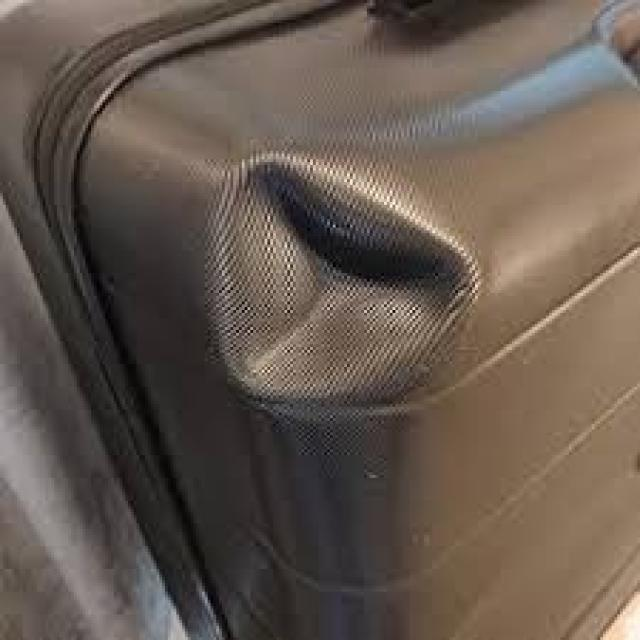Damage-bag: (205, 152, 481, 413)
